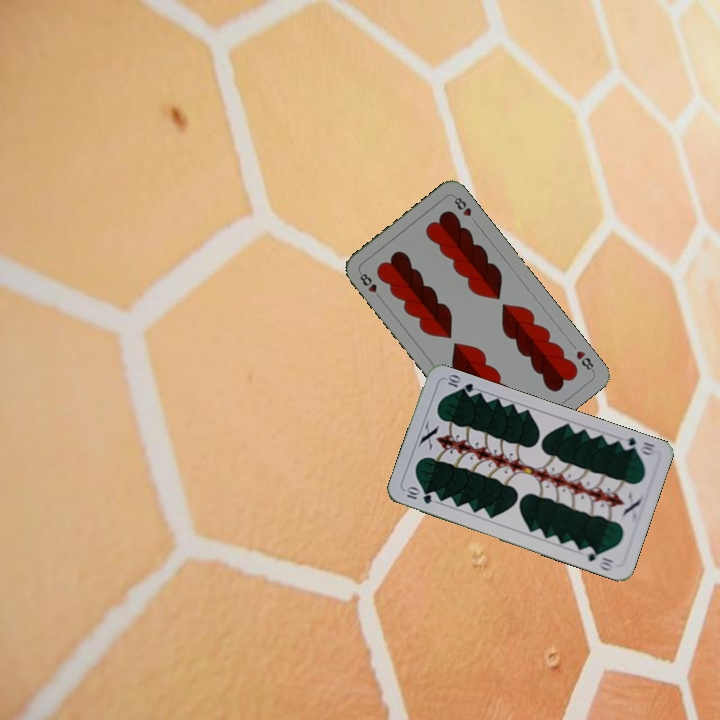G10: (617, 433, 658, 458), (403, 484, 435, 507)
H8: (355, 268, 385, 302), (572, 346, 597, 374)
